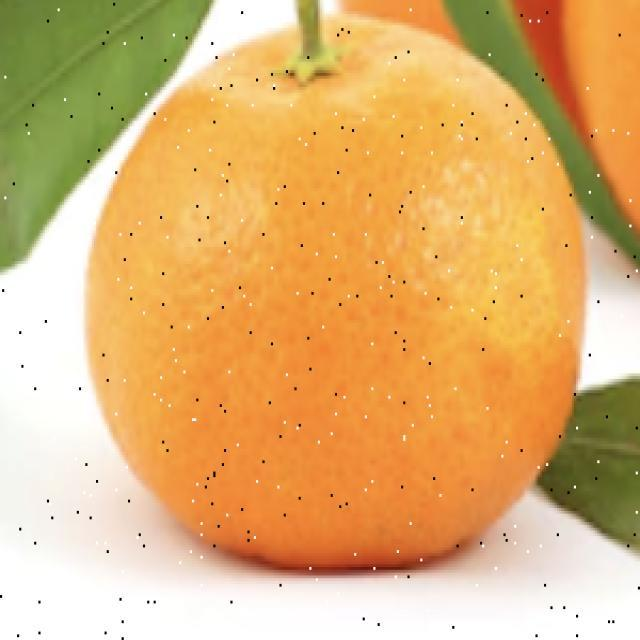Orange: (83, 11, 587, 570)
